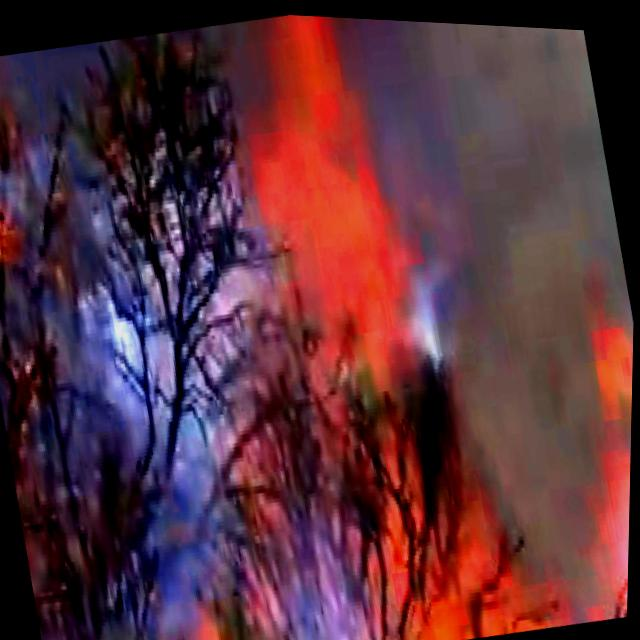fire: (202, 9, 460, 396), (309, 413, 593, 640), (544, 300, 635, 615)
smoke: (413, 17, 628, 282)
